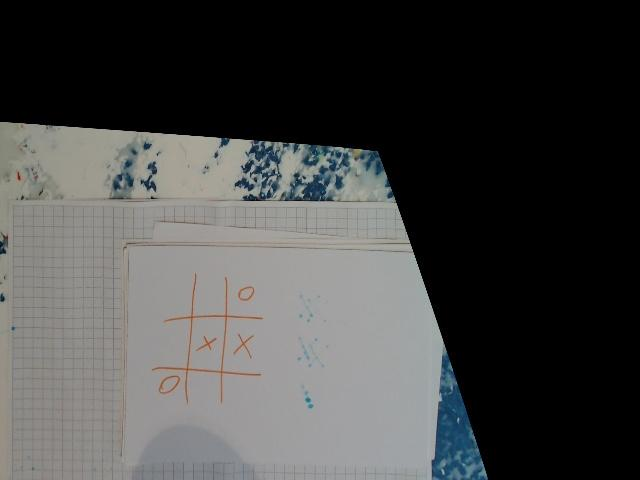O: (158, 372, 184, 398), (234, 283, 258, 308)
X: (230, 330, 256, 360), (195, 334, 219, 358)
grid: (154, 276, 268, 404)
